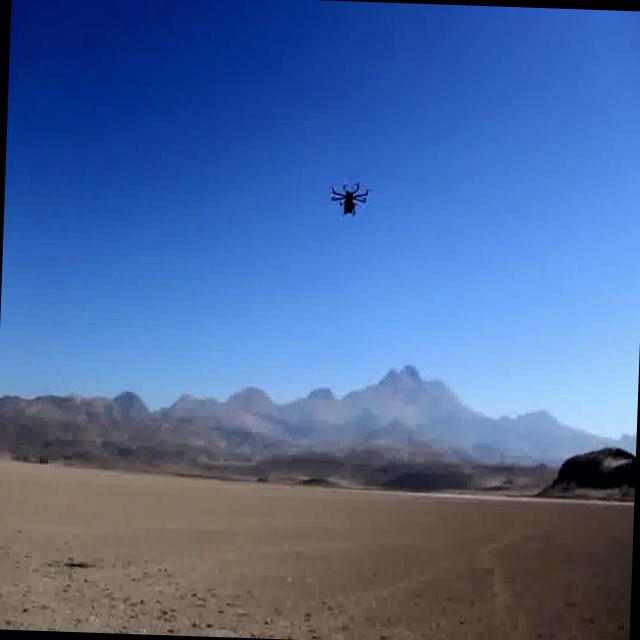drone: (328, 173, 369, 220)
